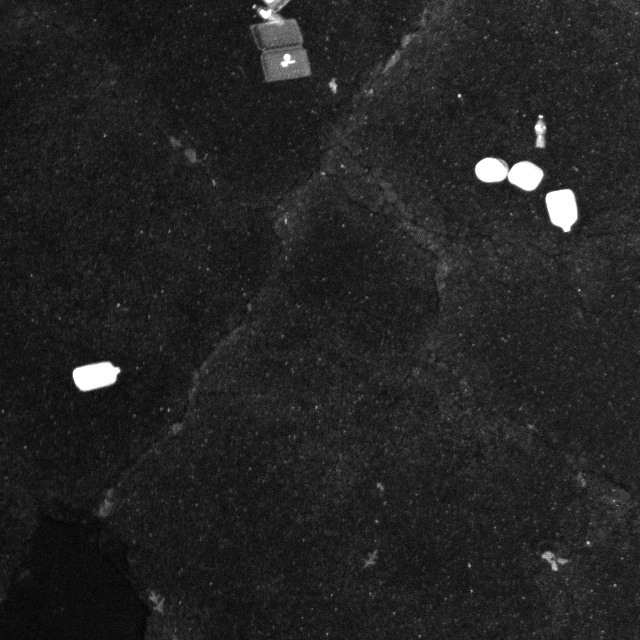can: (71, 355, 126, 401), (542, 190, 581, 242), (502, 159, 542, 197), (476, 152, 507, 188)
container: (250, 14, 318, 88)
